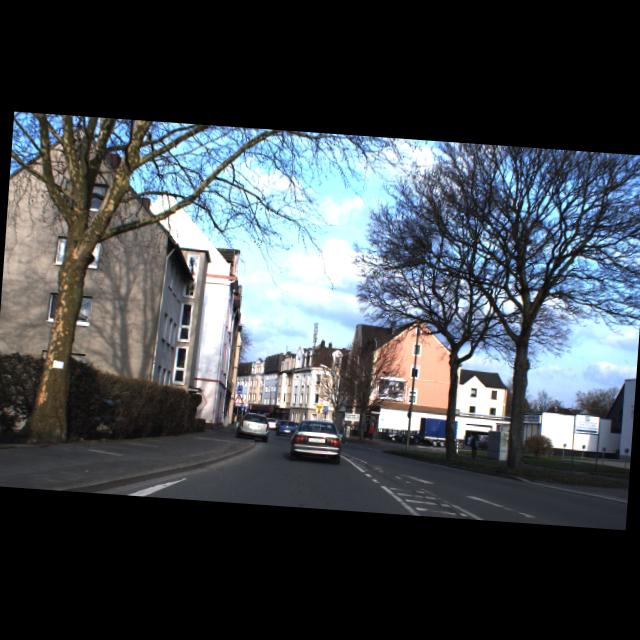danger: (232, 393, 245, 404)
